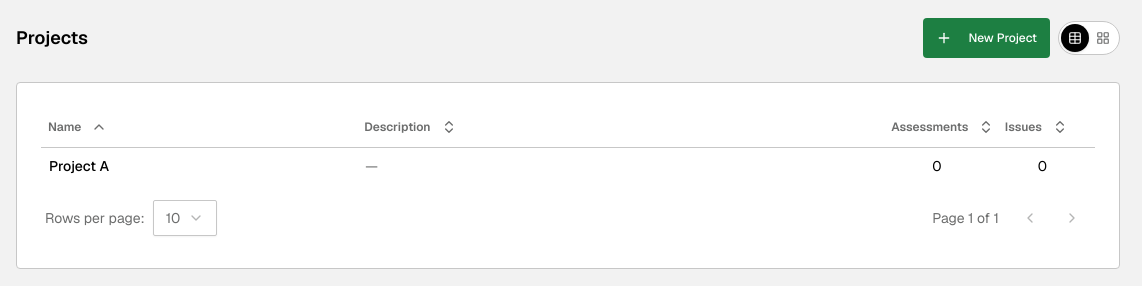
it: project grid uses 3-column layout at md breakpoint
Click the button named "Grid view".
click(1103, 38)  # box [1089, 24, 1117, 52]
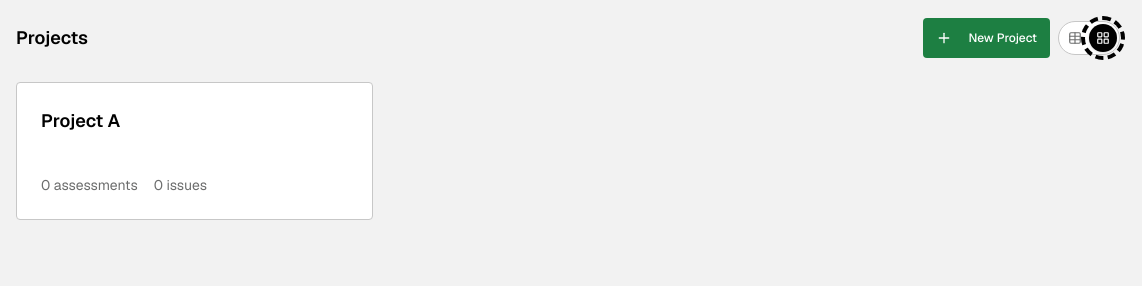
Result: the element showing "Project A 0 assessments 0 issues" is shown at [16, 82, 373, 220]
